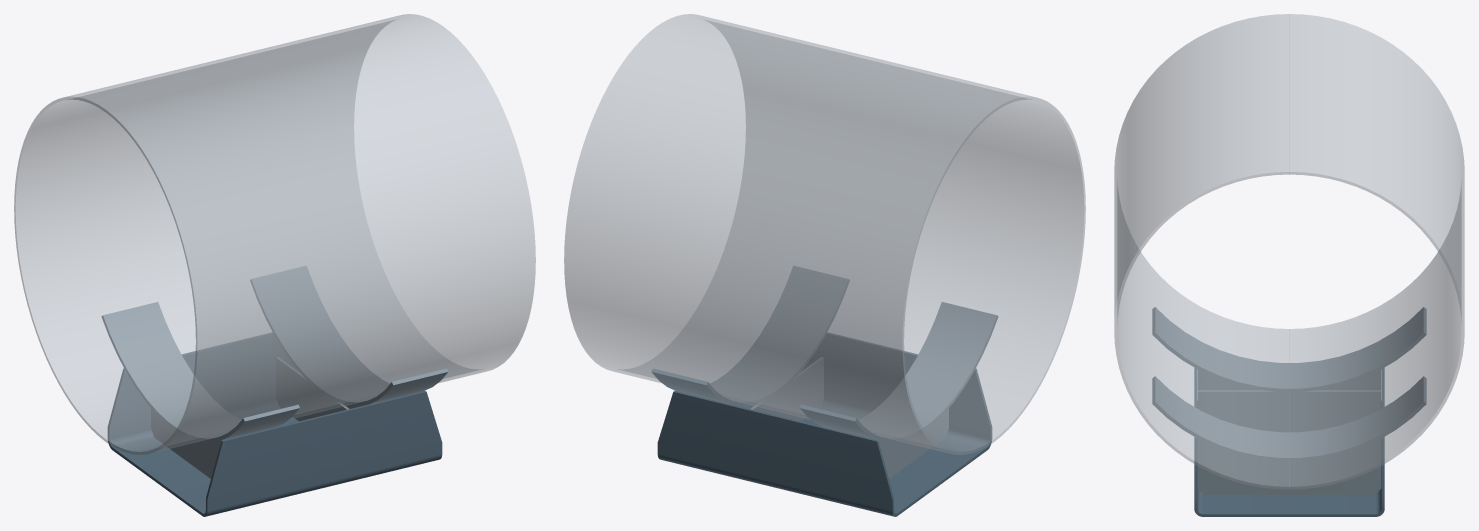
The model's file is TS-624.000-106-opora-dn920-H150-L680.glb.
3 views of the same model, side by side, from view 1: azimuth 30°, elevation 25°; view 2: azimuth 150°, elevation 25°; view 3: azimuth 270°, elevation 25° (orthographic). The views are drawn at different scales.
Parts seen in each view (by area): view 1: truba, skoba, podushka_0, podushka_1, rebro4_1, rebro3_0; view 2: truba, skoba, podushka_0, podushka_1, rebro4_1, rebro3_0; view 3: truba, podushka_1, podushka_0, rebro3_1, rebro4_0, skoba, rebro3_0.
Boxes of the visible parts, left/top/right/bottom form: truba: left=14, top=14, right=535, bottom=454; skoba: left=107, top=332, right=442, bottom=516; podushka_0: left=101, top=302, right=299, bottom=442; podushka_1: left=250, top=266, right=448, bottom=406; rebro4_1: left=276, top=357, right=349, bottom=421; rebro3_0: left=151, top=408, right=220, bottom=478; truba: left=564, top=14, right=1085, bottom=454; skoba: left=657, top=332, right=992, bottom=516; podushka_0: left=800, top=302, right=998, bottom=442; podushka_1: left=651, top=266, right=849, bottom=406; rebro4_1: left=750, top=357, right=823, bottom=421; rebro3_0: left=879, top=408, right=948, bottom=478; truba: left=1114, top=14, right=1464, bottom=489; podushka_1: left=1152, top=376, right=1426, bottom=461; podushka_0: left=1152, top=307, right=1426, bottom=391; rebro3_1: left=1197, top=439, right=1381, bottom=494; rebro4_0: left=1197, top=390, right=1381, bottom=432; skoba: left=1194, top=368, right=1384, bottom=516; rebro3_0: left=1197, top=370, right=1381, bottom=390.
Size of the model in its own units: 980 by 1069 by 920.
